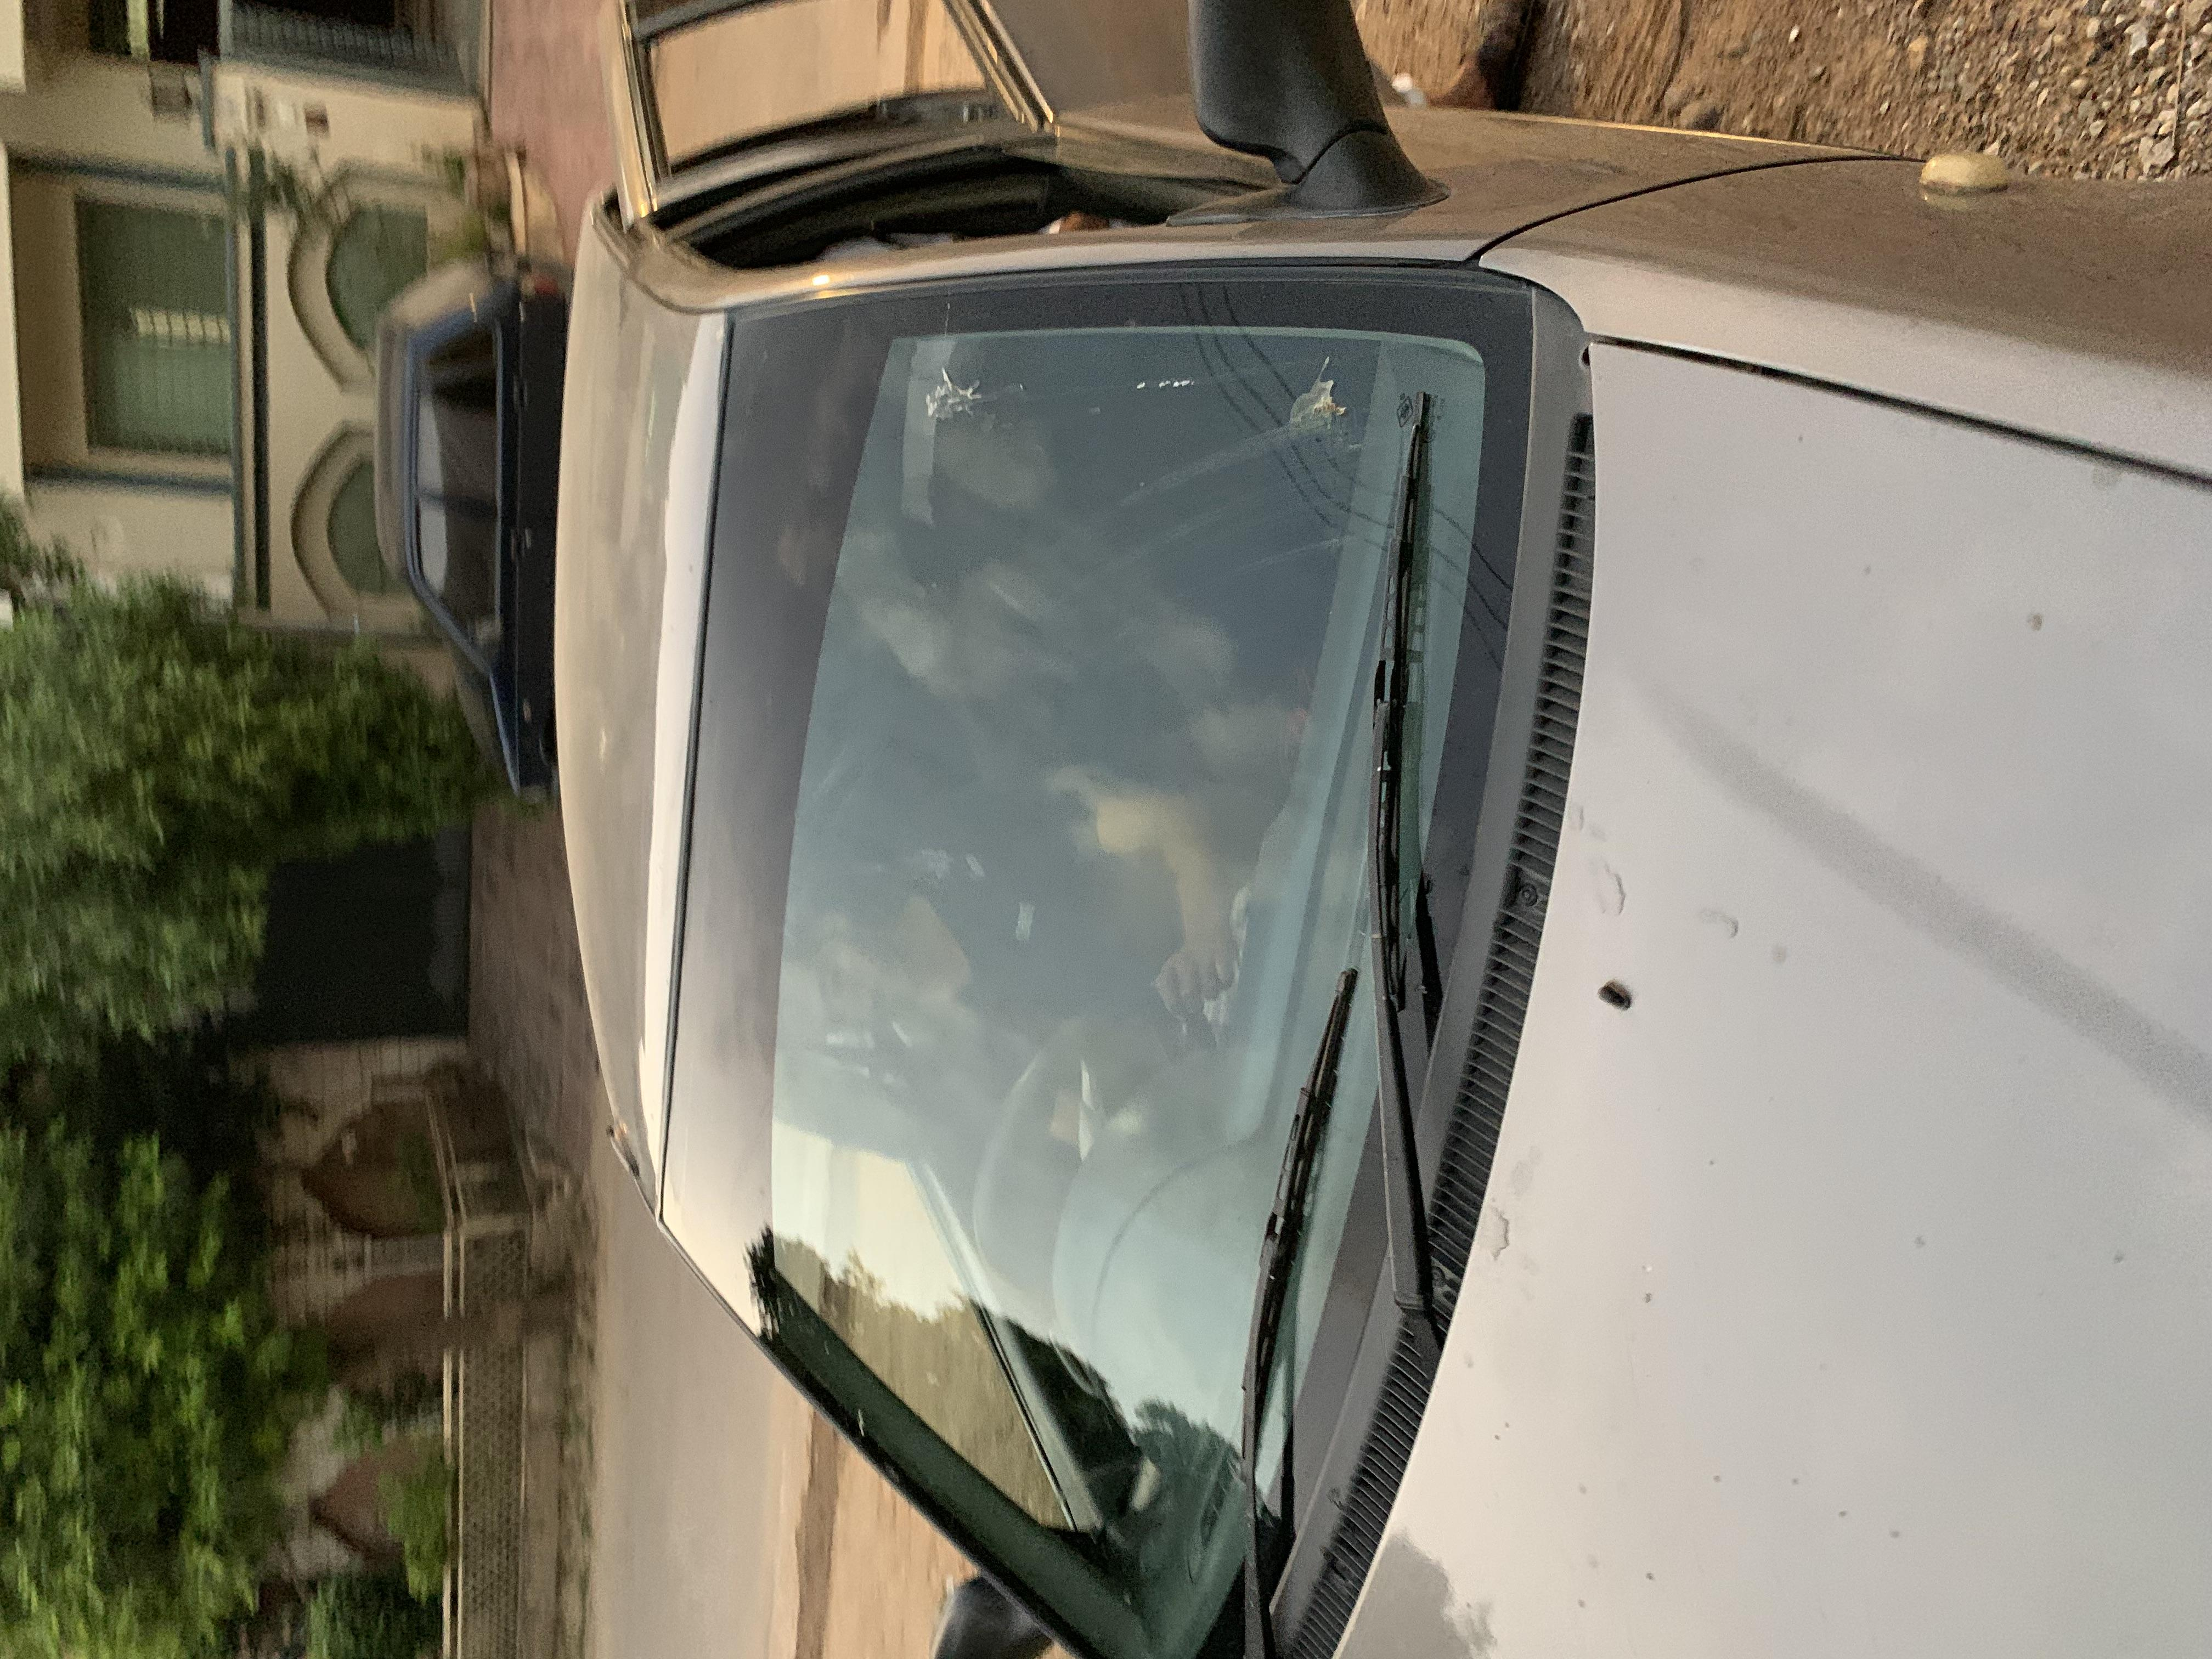windshield: (2, 474, 1815, 1215)
